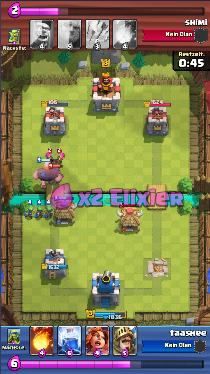EDoctor: (33, 161, 63, 185)
EEVRoyalG: (47, 200, 79, 225)
EKingTower: (43, 206, 54, 219), (24, 205, 35, 218), (34, 206, 44, 219)
EMiner: (56, 152, 65, 161), (45, 152, 53, 161)
ETesla: (115, 207, 144, 233)
OBat: (53, 166, 63, 177)
